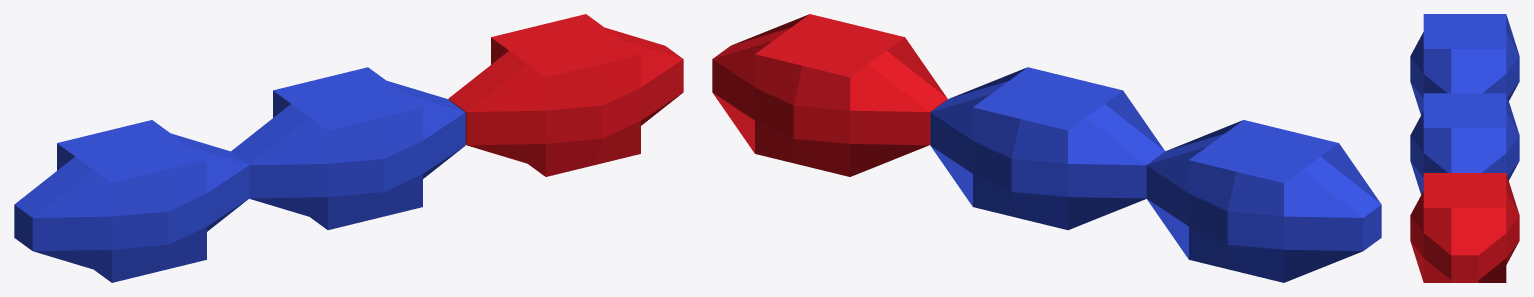
The picture shows the model from 3 angles, left to right: view 1: azimuth 30°, elevation 25°; view 2: azimuth 150°, elevation 25°; view 3: azimuth 270°, elevation 25°; orthographic projection. The views are drawn at different scales.
Visible parts, largest first — view 1: bluebase, red, blueBase2; view 2: bluebase, red, blueBase2; view 3: red, blueBase2, bluebase.
Part boxes in pixels (left/top/right/bottom): bluebase: left=14, top=120, right=249, bottom=282; red: left=448, top=14, right=683, bottom=176; blueBase2: left=231, top=67, right=465, bottom=229; bluebase: left=1146, top=120, right=1381, bottom=282; red: left=712, top=14, right=947, bottom=176; blueBase2: left=930, top=67, right=1164, bottom=230; red: left=1410, top=173, right=1519, bottom=282; blueBase2: left=1410, top=93, right=1519, bottom=194; bluebase: left=1410, top=14, right=1519, bottom=114.
Size of the model in its own units: 1367 by 200 by 265.
